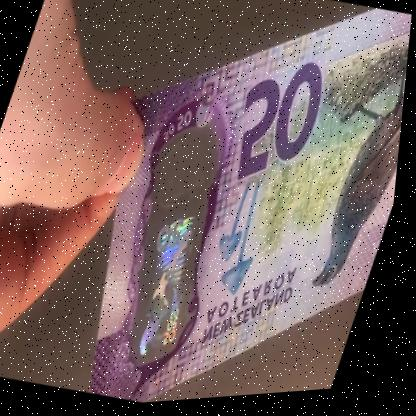50B: (116, 148, 242, 373)
